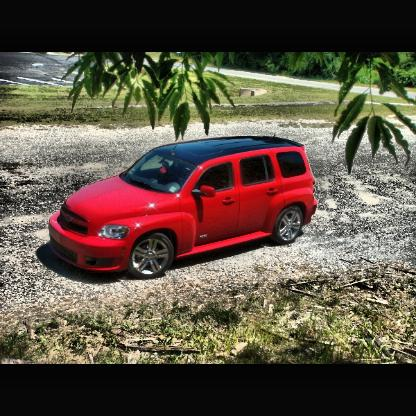Chevrolet HHR SS 2010: (50, 134, 321, 281)
